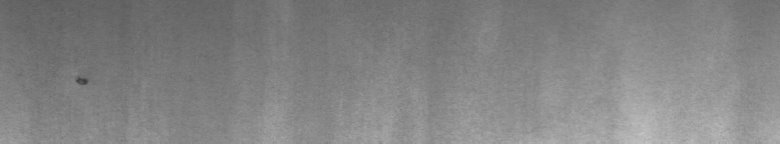fi: (72, 69, 89, 92)
